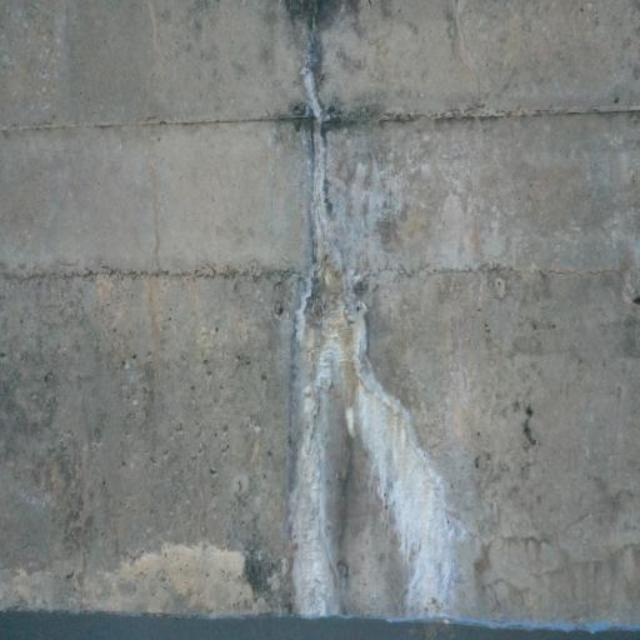D01: (354, 318, 465, 621)
